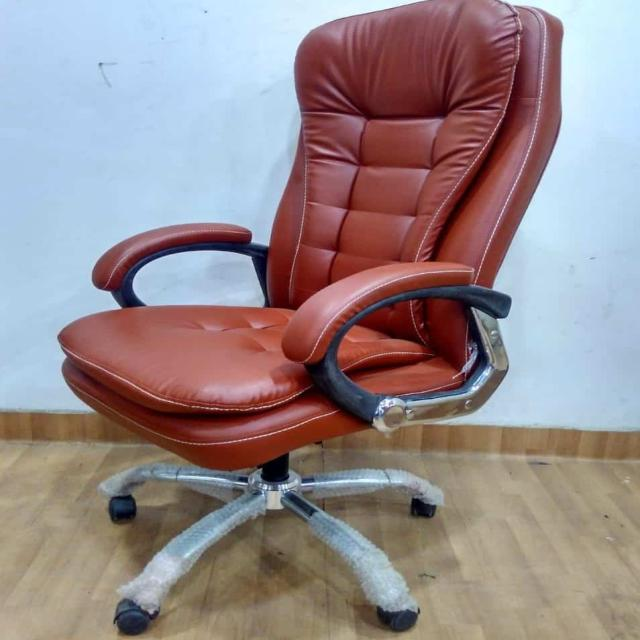chair: (56, 0, 564, 635)
